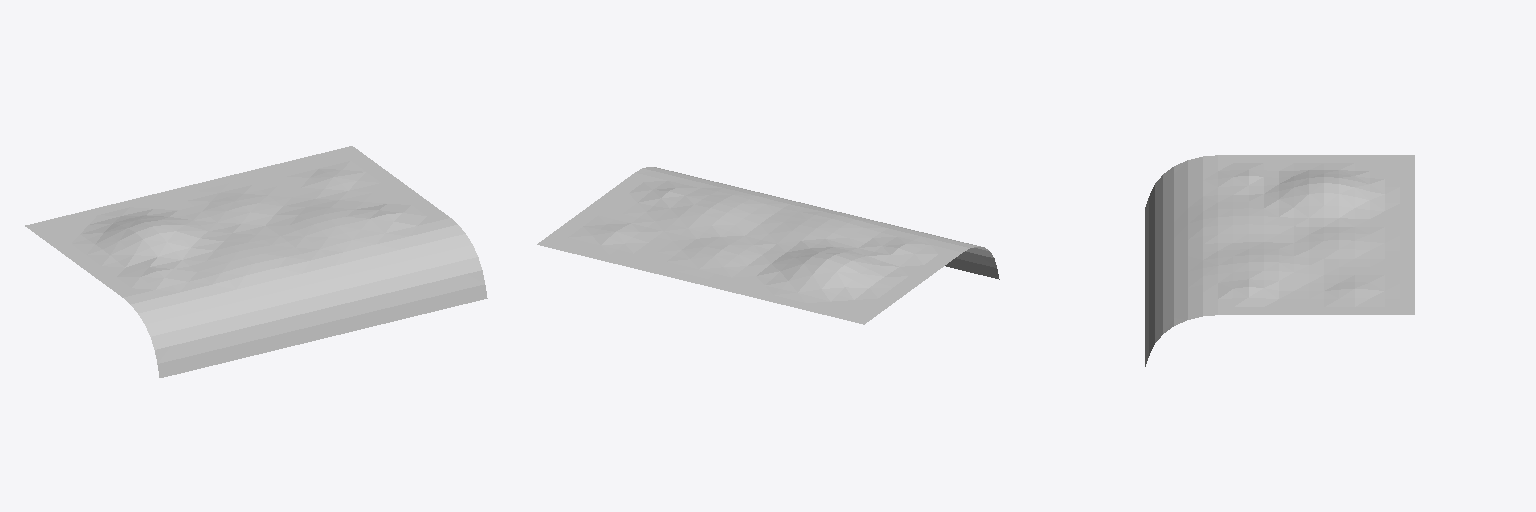
The model's file is groundFront1.obj.
3 views of the same model, side by side, from view 1: azimuth 30°, elevation 25°; view 2: azimuth 150°, elevation 25°; view 3: azimuth 270°, elevation 25° (orthographic).
Parts seen in each view (by area): view 1: pPlane1; view 2: pPlane1; view 3: pPlane1.
Part boxes in pixels (x1,y1,x2,y2): pPlane1: (25, 146, 487, 377); pPlane1: (537, 167, 999, 324); pPlane1: (1145, 155, 1414, 366).
Bounding box in the file's own units: 15 × 2.9 × 10.71.